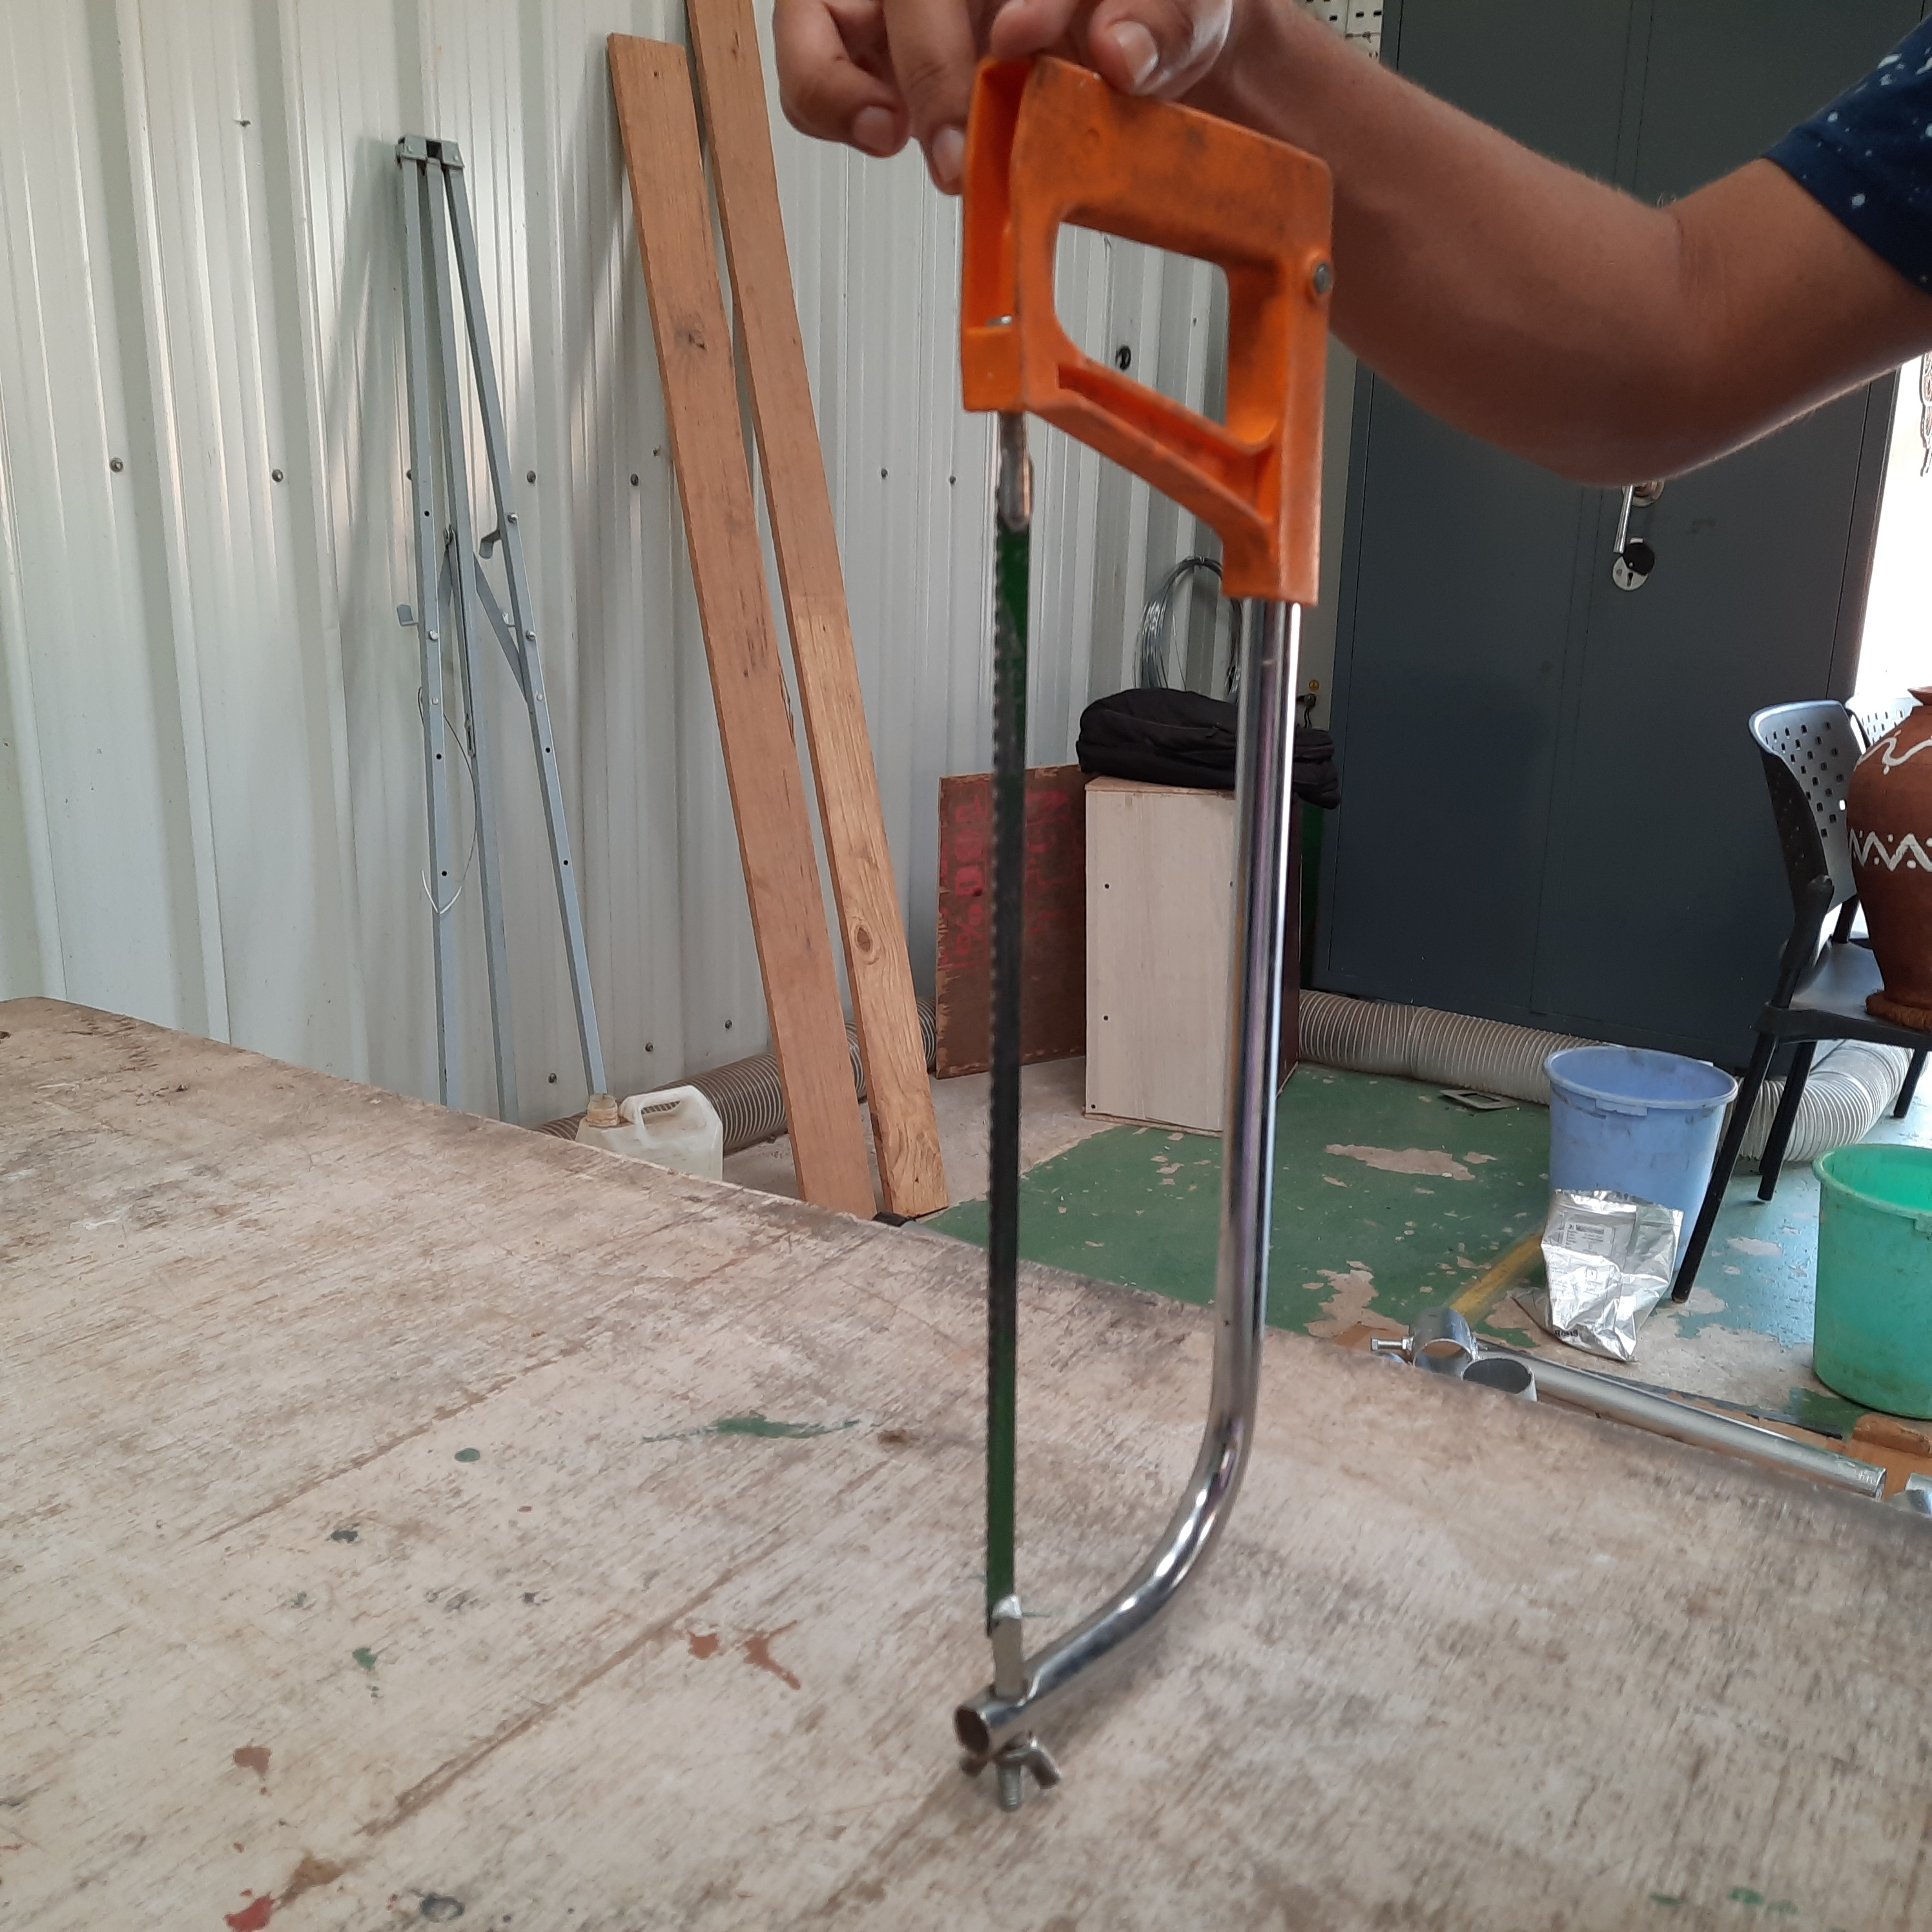Hexaframe: (934, 27, 1332, 1759)
